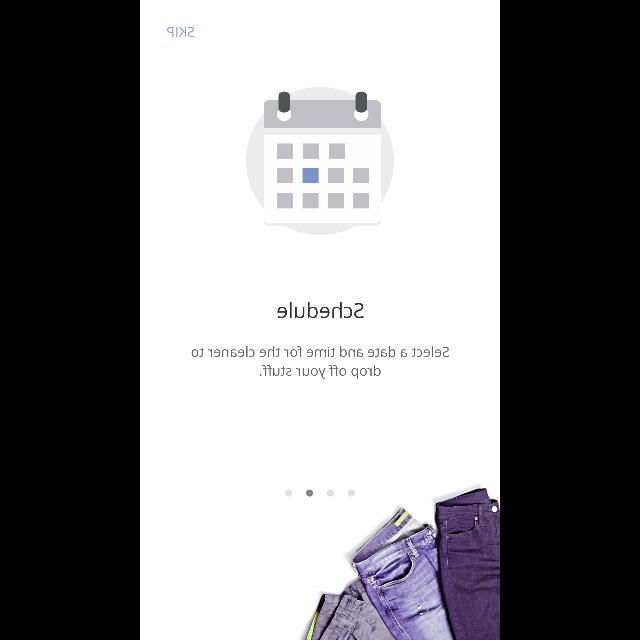image: (306, 488, 500, 640), (246, 87, 394, 235)
pageindicator: (286, 489, 354, 496)
text: (192, 346, 448, 379), (277, 302, 363, 318), (168, 27, 195, 37)
